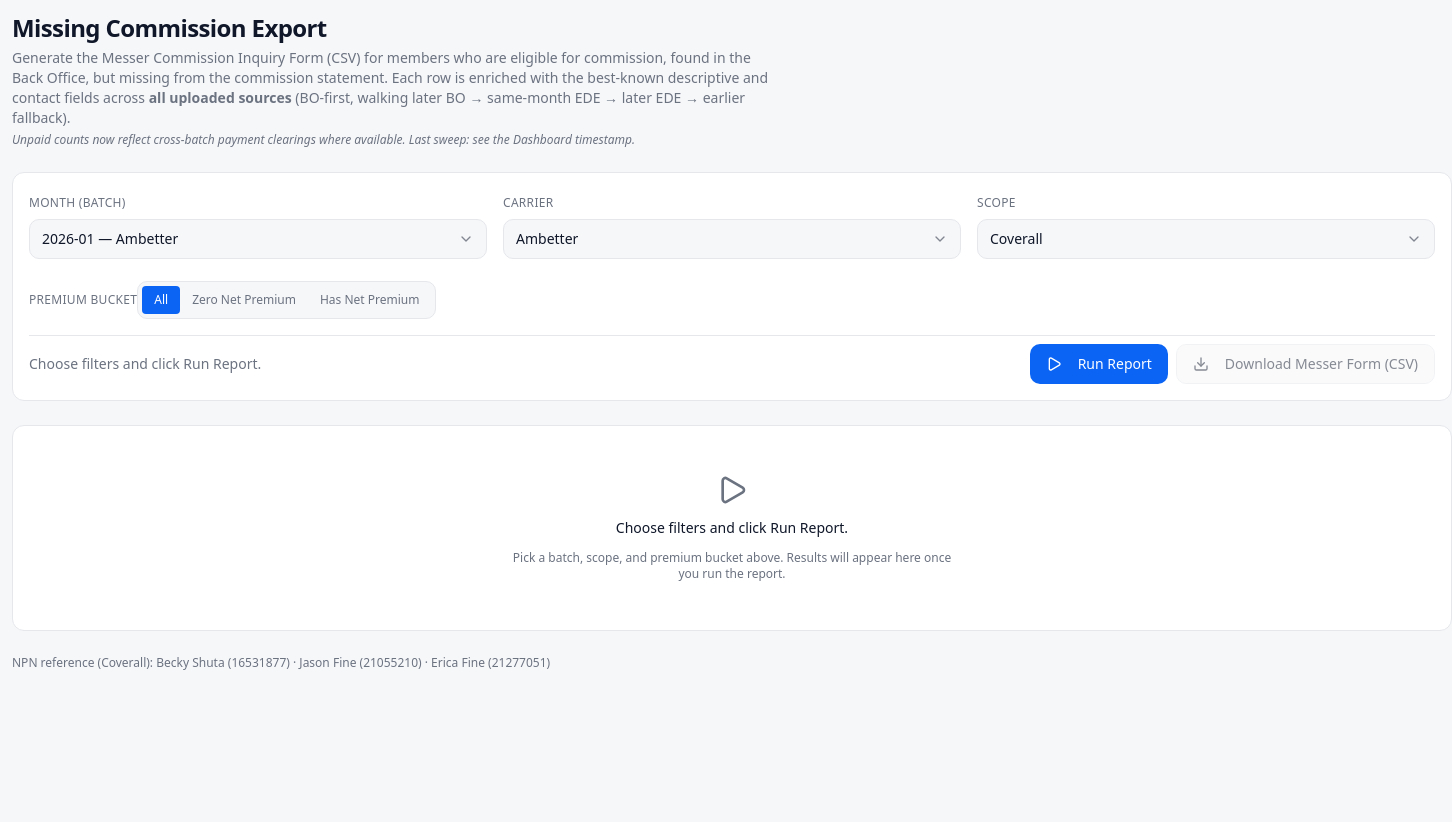
Test case: MissingCommissionExportPage — #124 explicit states › empty state: shows explicit "No records found" when query returns zero rows
This screenshot has width=1452, height=822.
Expected: the element with test id "initial-state" is shown, [12,425,1451,631]
Step 1. Click the button with test id "run-report" → (1099, 364), box [1030,344,1168,384]
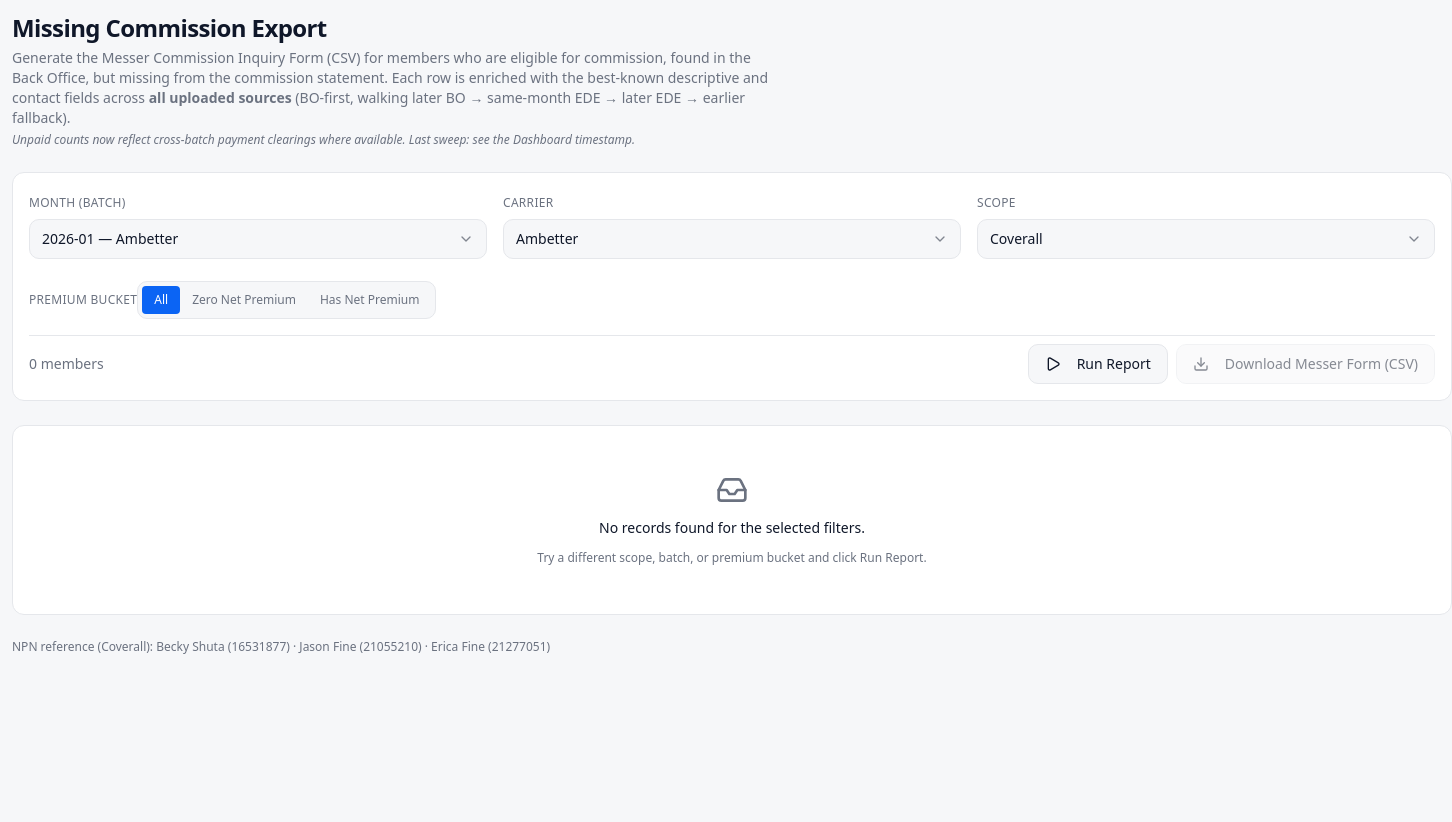
Expected: the element with test id "empty-state" is shown, [12,425,1451,615]
Expected: the text "No records found for the selected filters." is shown, [599,518,865,537]
